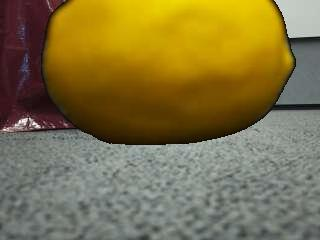lemon: (45, 0, 291, 146)
